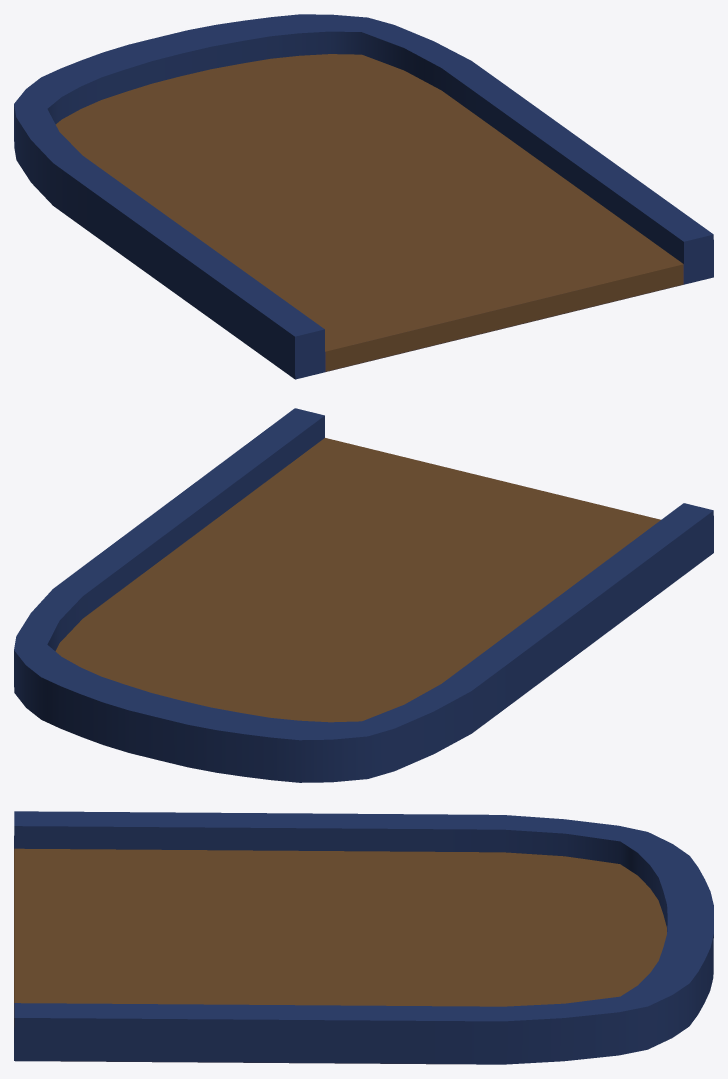
File: PinballArena2.fbx
The picture shows the model from 3 angles, top to bottom: view 1: azimuth 30°, elevation 25°; view 2: azimuth 150°, elevation 25°; view 3: azimuth 270°, elevation 25°; orthographic projection.
Visible parts, largest first — view 1: Pinball2; view 2: Pinball2; view 3: Pinball2.
Part boxes in pixels (bbox=[...]): Pinball2: bbox=[14, 14, 713, 379]; Pinball2: bbox=[14, 408, 713, 782]; Pinball2: bbox=[14, 811, 713, 1064].
Bounding box in the file's own units: 4299 × 469 × 6157.
